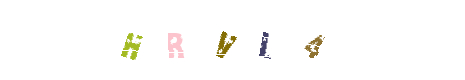4: (223, 0, 303, 80)
H: (113, 0, 193, 80)
L: (223, 0, 303, 80)
R: (151, 0, 231, 80)
V: (193, 0, 273, 80)
